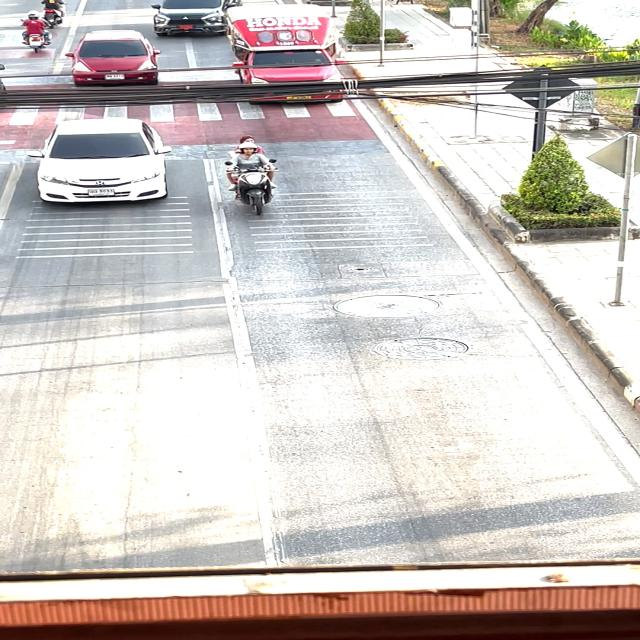car: (22, 116, 175, 217), (220, 2, 355, 110), (69, 24, 167, 87)
